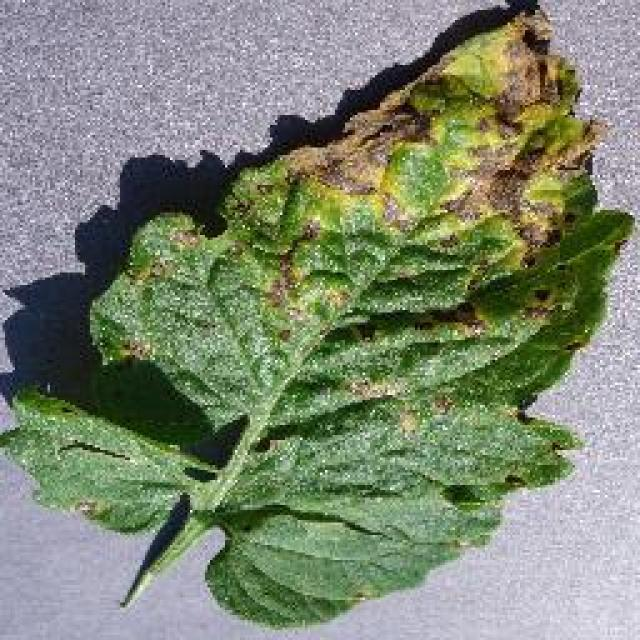Tomato Septoria spot leaf: (0, 0, 635, 630)
